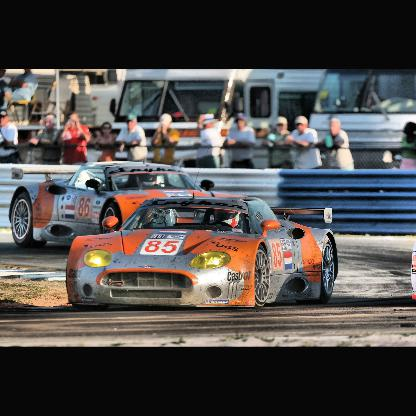Spyker C8 Convertible 2009: (64, 194, 342, 314)
